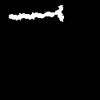half_double_crochet: (9, 5, 63, 20)
